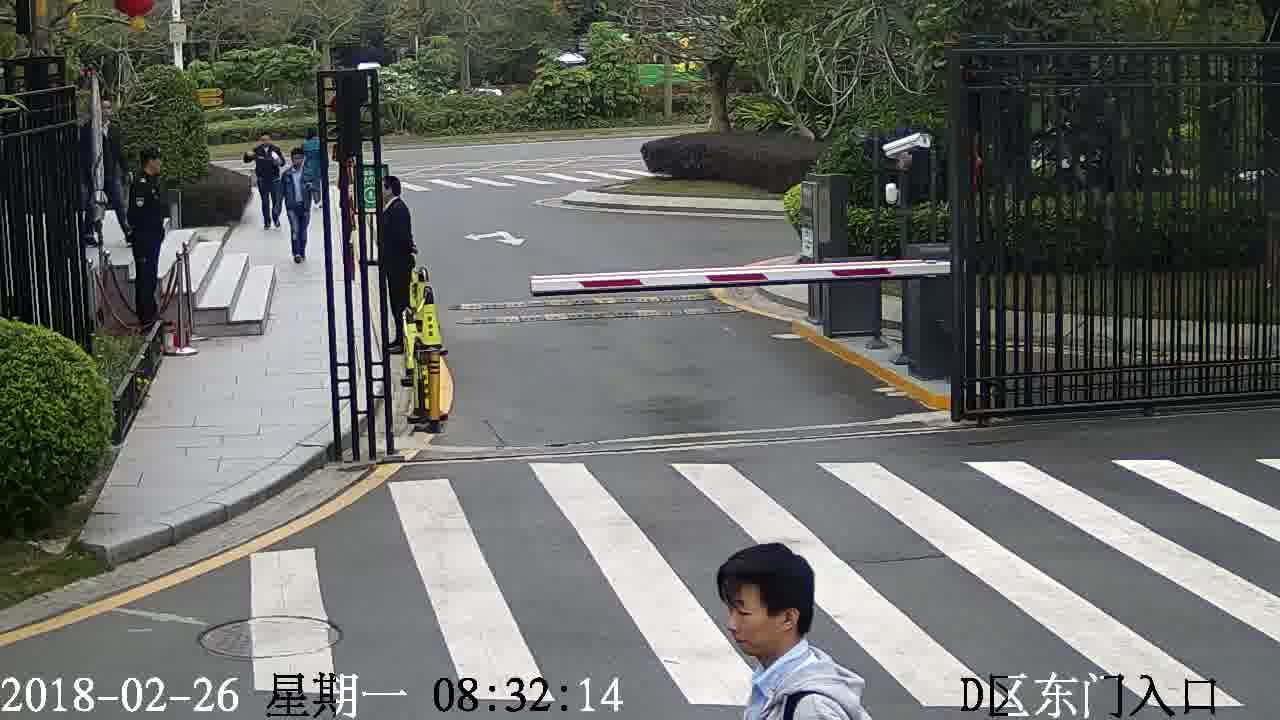face: (714, 578, 793, 657)
person: (709, 542, 865, 715), (131, 147, 167, 196), (378, 171, 411, 224), (281, 145, 310, 178), (250, 130, 284, 157), (304, 127, 326, 156)
